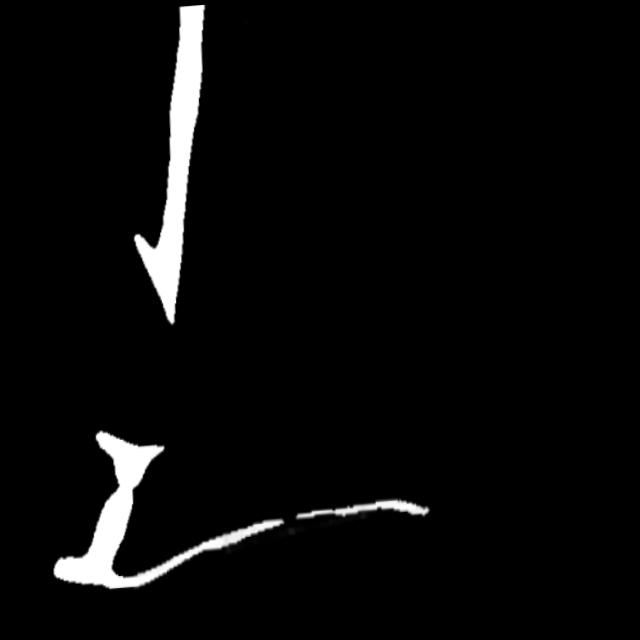sup: (278, 509, 308, 531)
